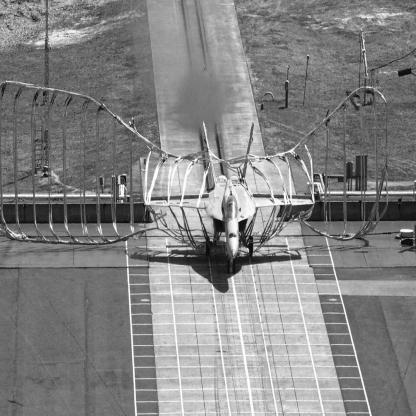F18: (145, 121, 316, 275)
